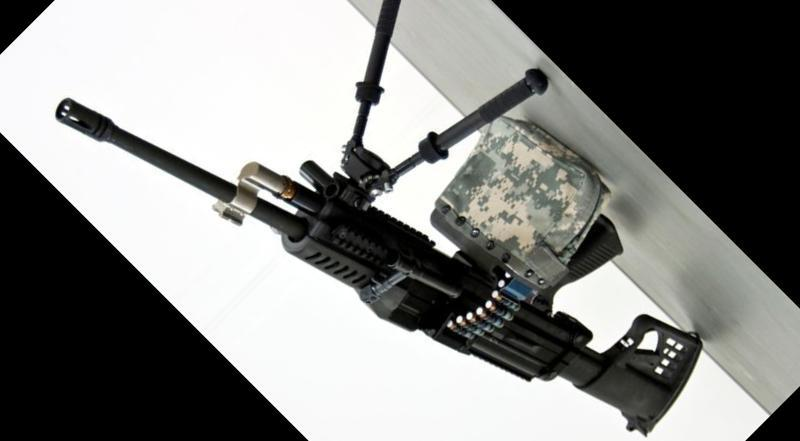larga: (53, 0, 704, 436)
